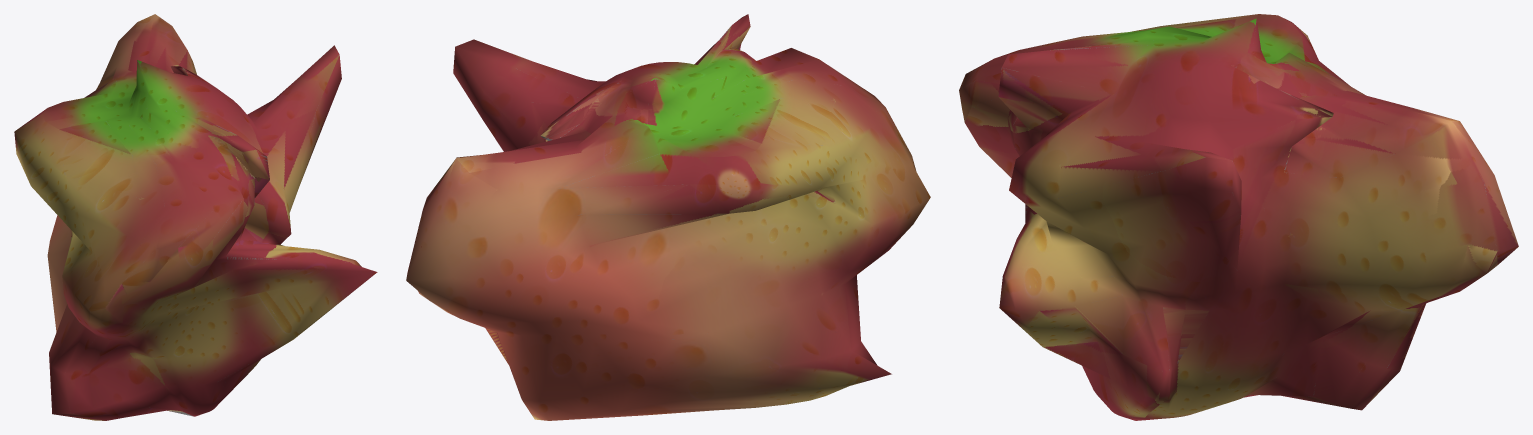
File: ateroid.fbx
3 renders of one model, left to right at view 1: azimuth 30°, elevation 25°; view 2: azimuth 150°, elevation 25°; view 3: azimuth 270°, elevation 25°, orthographic. The views are drawn at different scales.
Visible parts, largest first — view 1: Sphere; view 2: Sphere; view 3: Sphere.
Part boxes in pixels (x1,y1,x2,y2): Sphere: (14, 14, 377, 420); Sphere: (406, 14, 930, 420); Sphere: (959, 14, 1518, 420).
Bounding box in the file's own units: 328 × 300 × 383.
